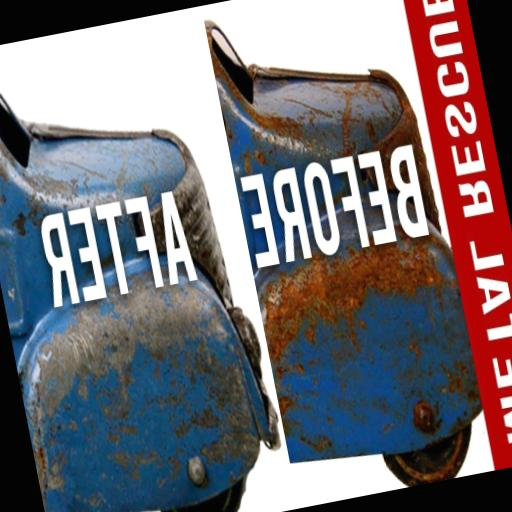corrosion: (11, 267, 268, 512), (257, 224, 486, 477), (209, 8, 417, 181), (13, 213, 28, 236)
